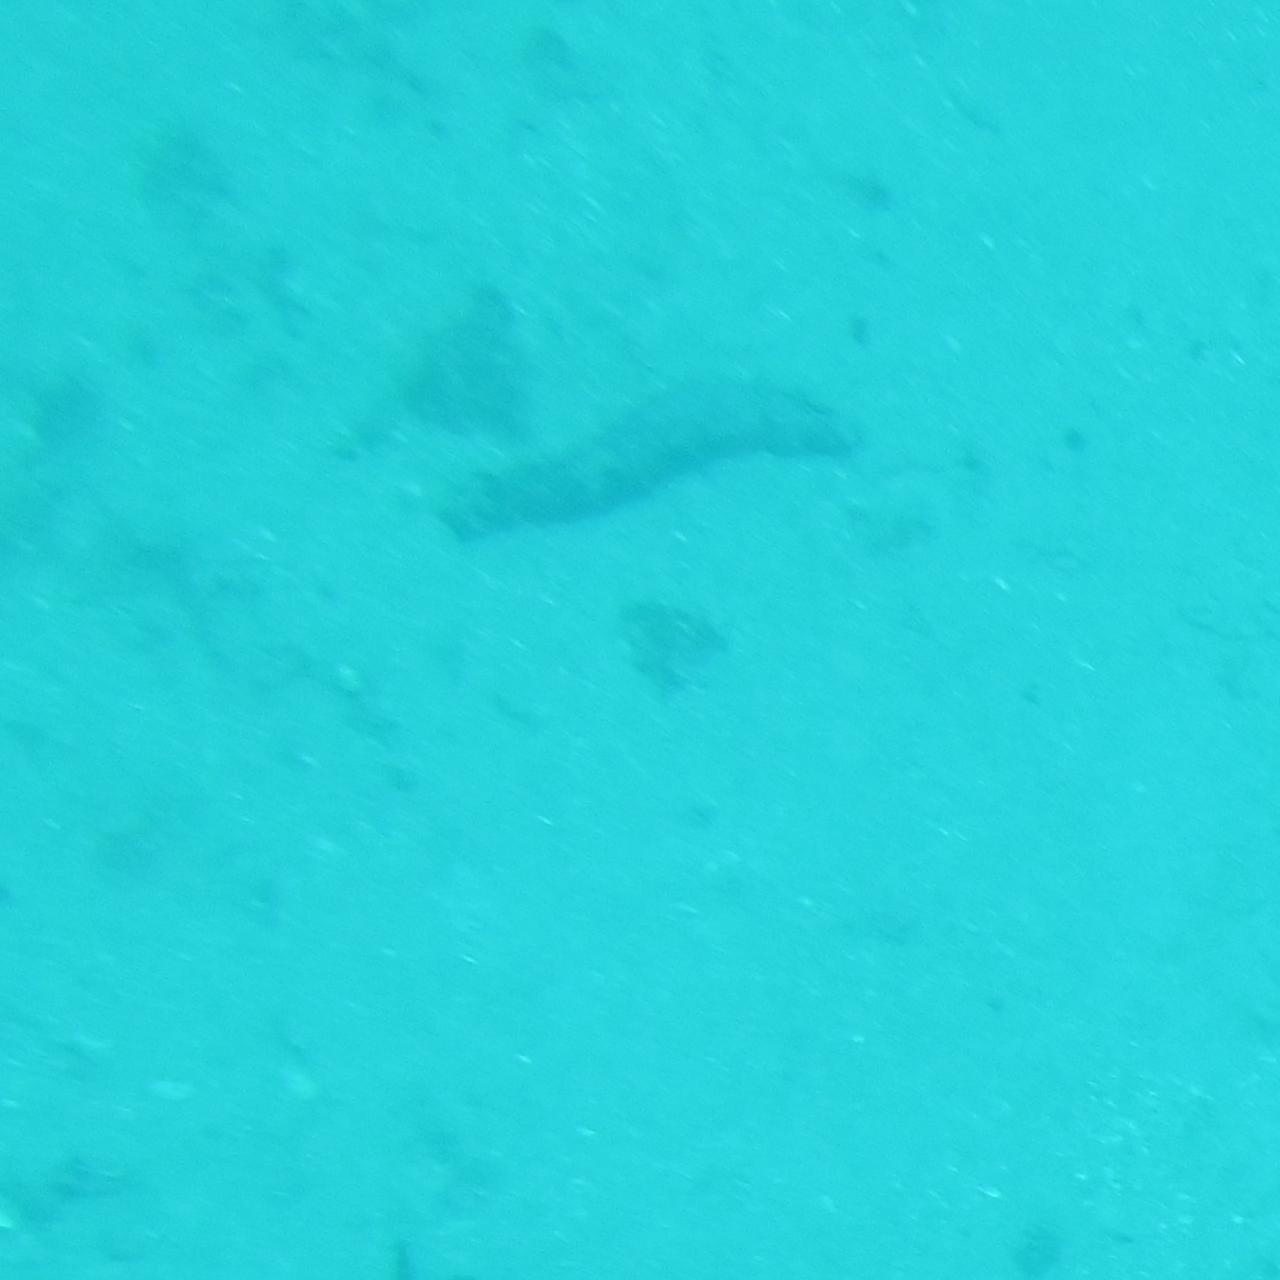Holothuria tubulosa: (432, 373, 848, 542)
